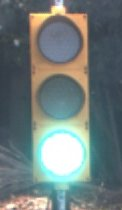Green: (17, 8, 114, 185)
